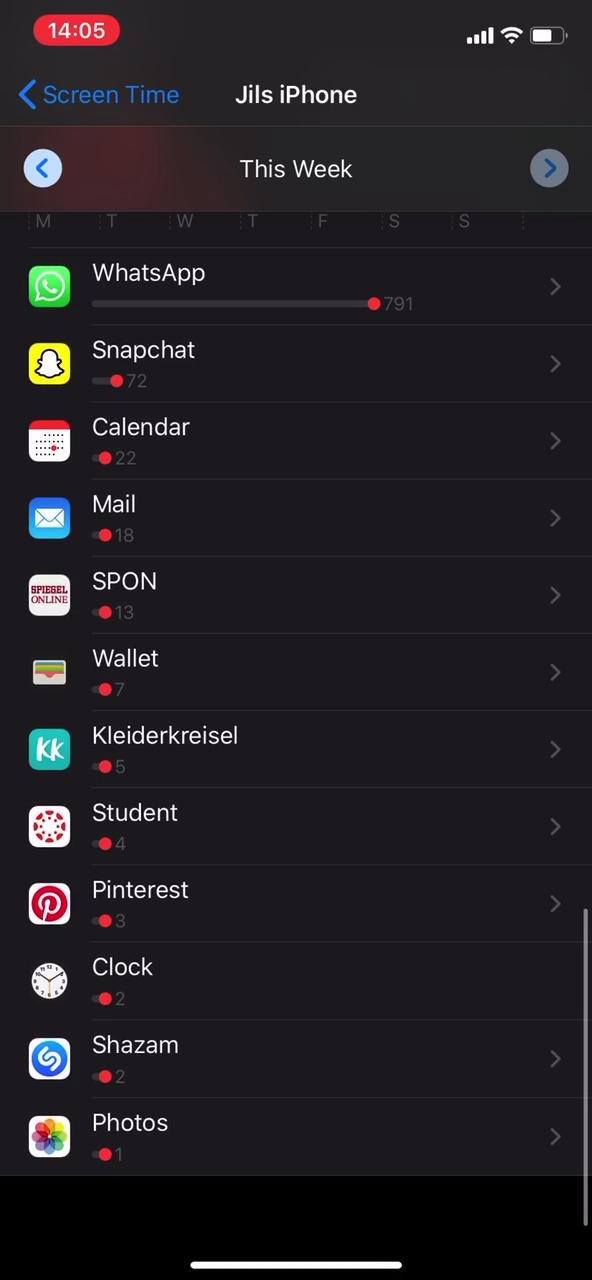not_app: (23, 252, 436, 328), (20, 333, 234, 399), (20, 797, 236, 861), (12, 1025, 226, 1089), (28, 722, 261, 780), (25, 408, 220, 475), (20, 882, 237, 938), (7, 1113, 218, 1164), (22, 953, 218, 1005), (32, 482, 170, 553), (23, 571, 193, 628), (23, 638, 187, 697)
week: (231, 146, 372, 187)
